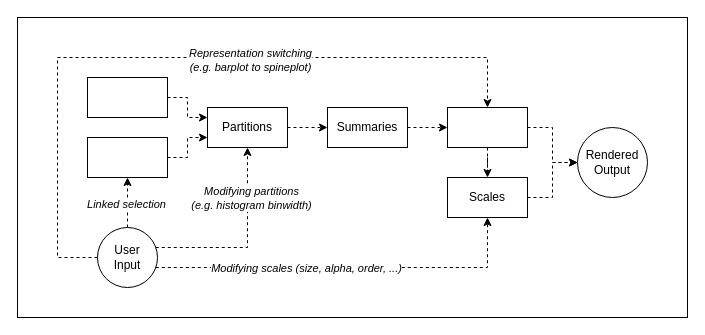
The diagram is 705 pixels wide and 335 high, and some of its shapes have lost their labels. The centre of each missing label's shape, as x and y in pixels:
Aesthetic Encodings: the point at 487,127
Data: the point at 127,97
Marker: the point at 127,157
